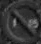No waiting: (2, 2, 37, 40)
